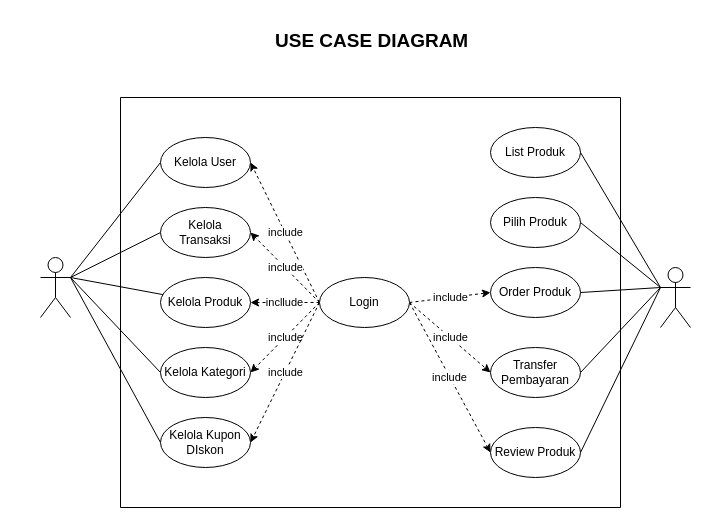
Image size: 714x525. Some labels were removed from this diagram. Each missing label, with the centre of its shape:
"Admin/Penjual" goes at point 55,287.
"Pembeli" goes at point 675,297.
